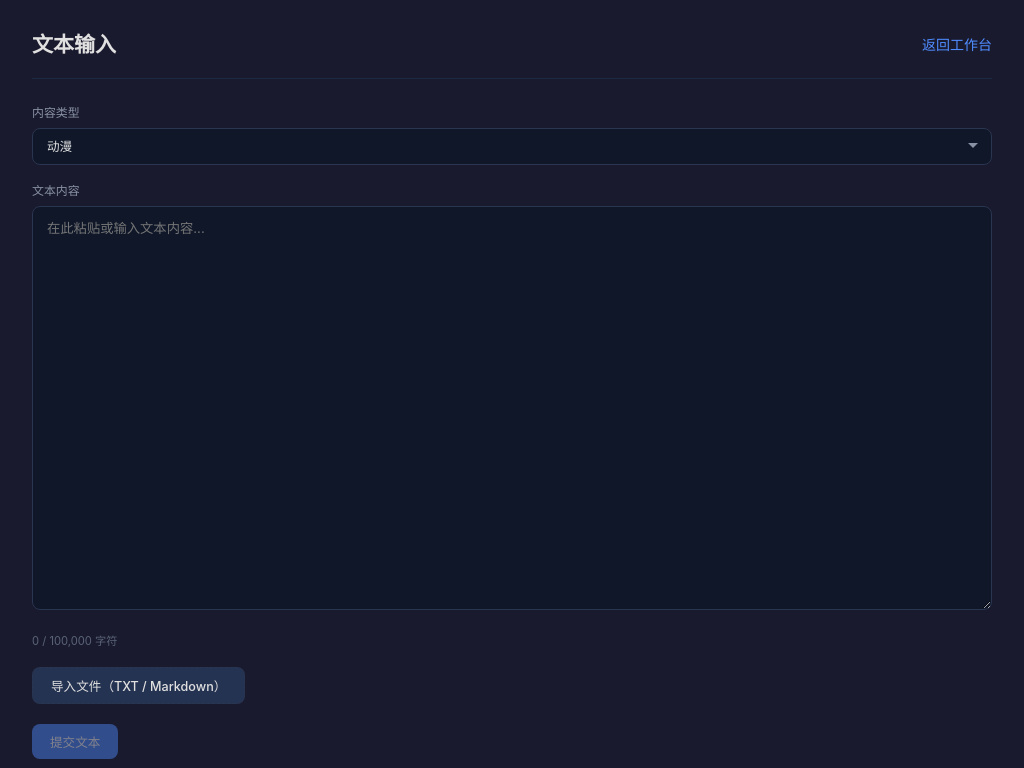
TextInputPage › 提交成功后显示结果反馈
The width and height of the screenshot is (1024, 768).
Type "这是一段足够长的测试文本内容用于提交" into the text box labelled "文本内容".
click(512, 408); type("这是一段足够长的测试文本内容用于提交")  # box x1=32 y1=206 x2=992 y2=610
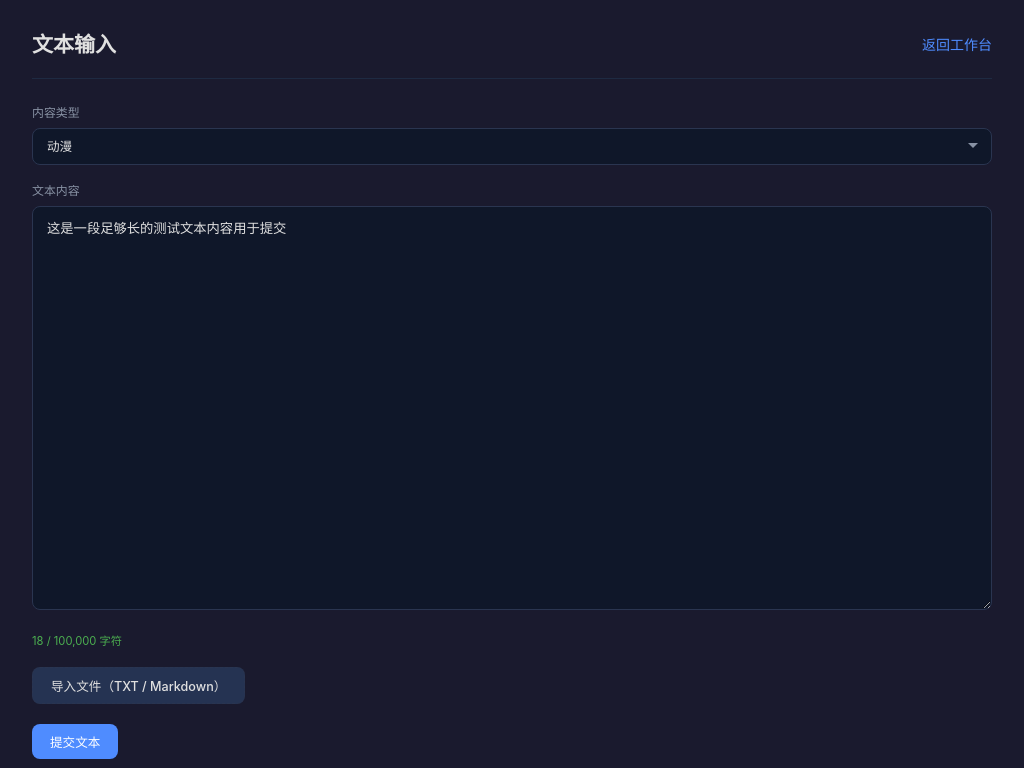
Click the button labelled "提交文本".
click(75, 741)  # box x1=32 y1=724 x2=118 y2=759
(page scrolled)
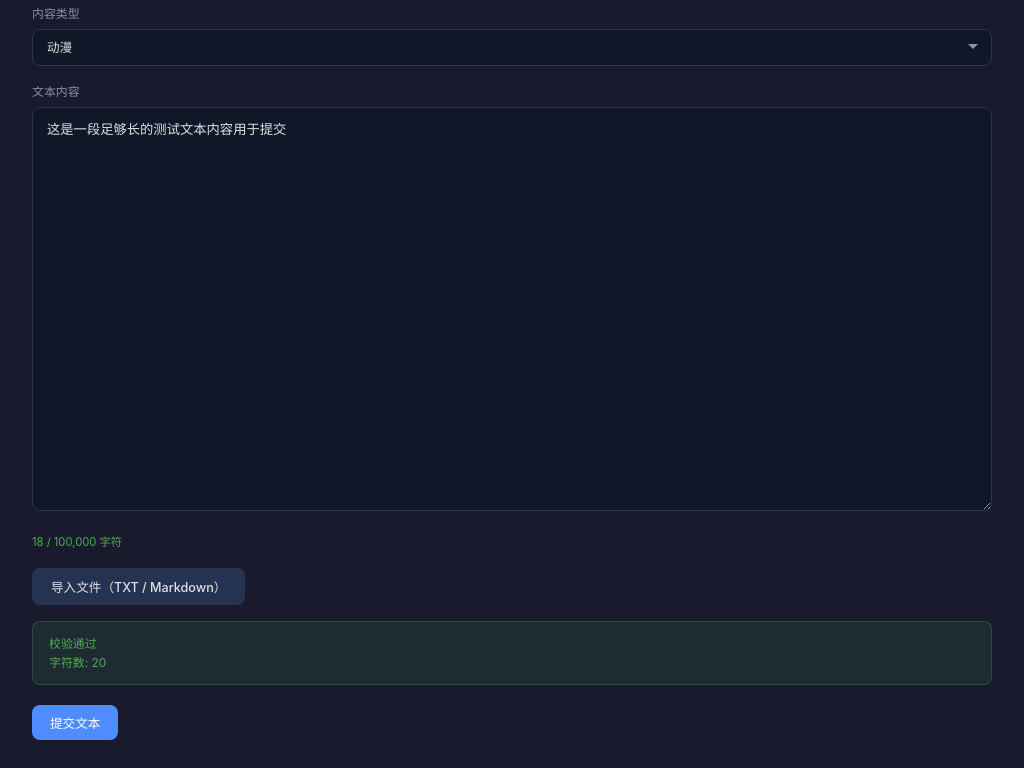
Expected: the message with test id "submit-result" shows "校验通过", x1=49 y1=636 x2=97 y2=651
